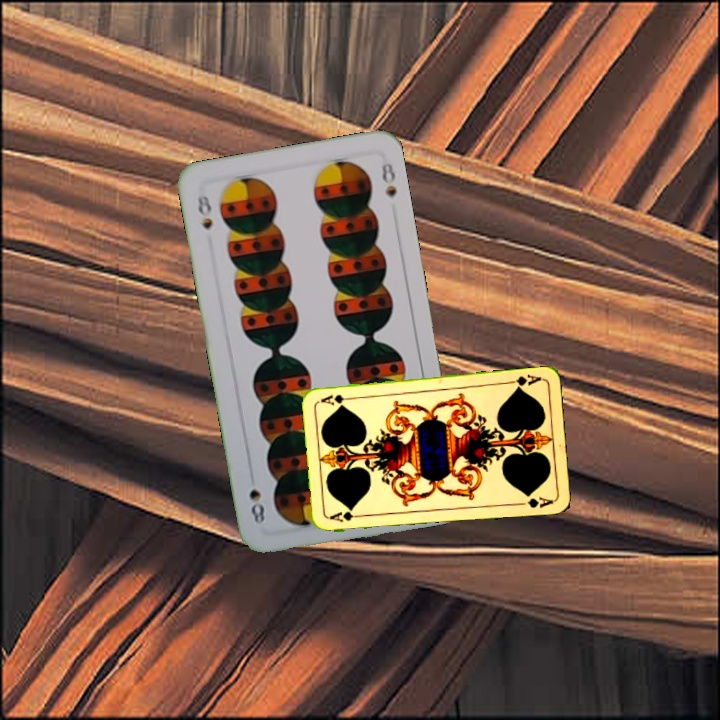GA: (504, 371, 543, 391), (326, 507, 366, 525)
S8: (193, 191, 215, 233)
